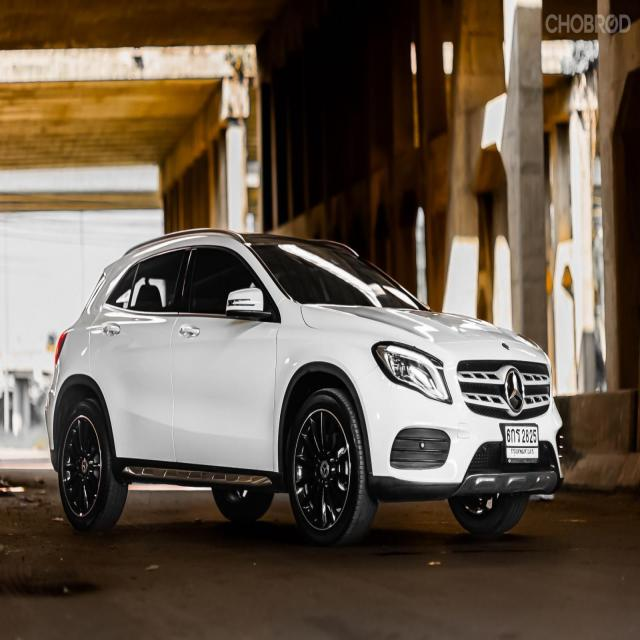license_plate: (502, 419, 541, 469)
